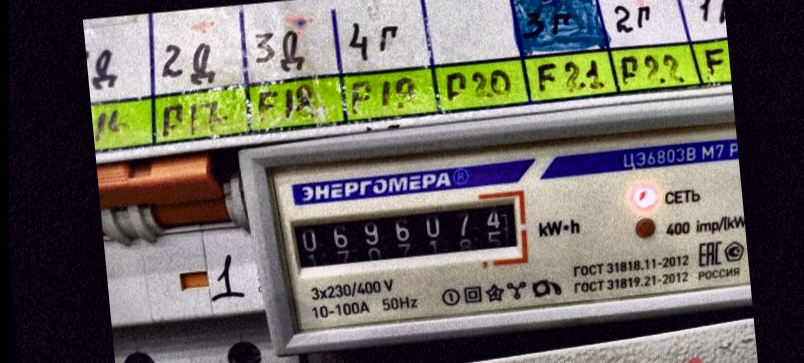0: (298, 226, 320, 253), (424, 211, 443, 239)
4: (485, 205, 503, 230)
5: (487, 229, 504, 248)
6: (331, 221, 352, 249), (393, 216, 412, 242)
7: (453, 209, 474, 237)
9: (361, 219, 382, 246)
screen: (278, 184, 537, 288)
